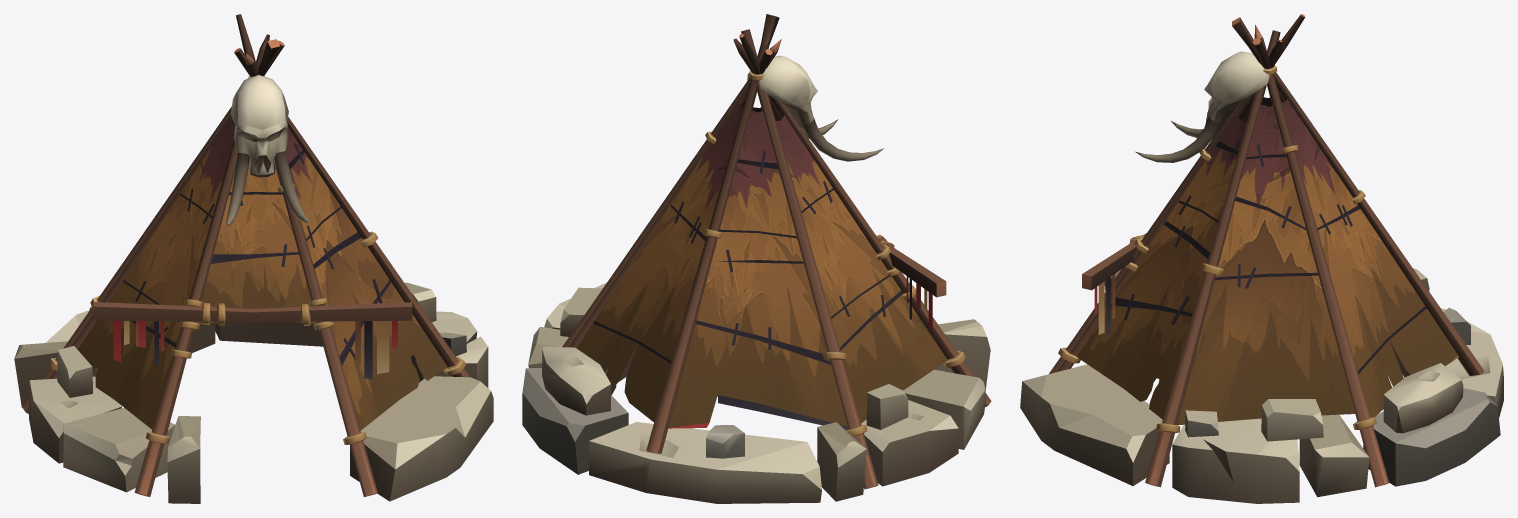
File: Hut_3C.fbx
3 renders of one model, left to right at view 1: azimuth 30°, elevation 25°; view 2: azimuth 150°, elevation 25°; view 3: azimuth 270°, elevation 25°, orthographic.
Parts seen in each view (by area): view 1: Hut_3C, Hut_3C_Giant_Skull; view 2: Hut_3C, Hut_3C_Giant_Skull; view 3: Hut_3C, Hut_3C_Giant_Skull.
Part boxes in pixels (<box>): Hut_3C: <box>14,14,493,503</box>; Hut_3C_Giant_Skull: <box>226,75,308,225</box>; Hut_3C: <box>522,14,991,503</box>; Hut_3C_Giant_Skull: <box>747,55,883,161</box>; Hut_3C: <box>1020,14,1503,503</box>; Hut_3C_Giant_Skull: <box>1135,51,1269,162</box>.
Bounding box in the file's own units: 583 × 531 × 596.
